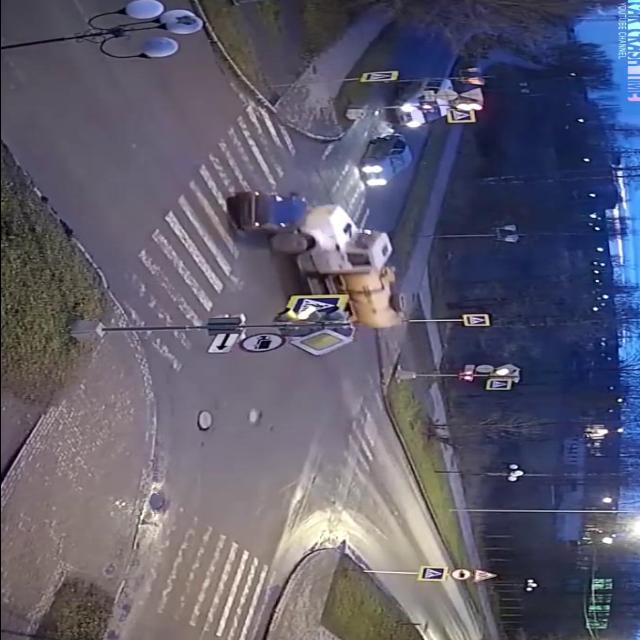accident: (216, 184, 424, 360)
